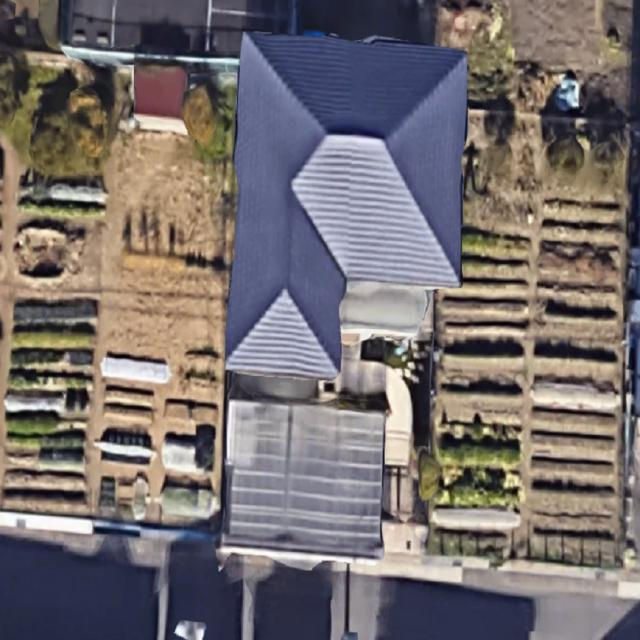Batiment: (226, 33, 466, 377), (222, 399, 385, 557)
